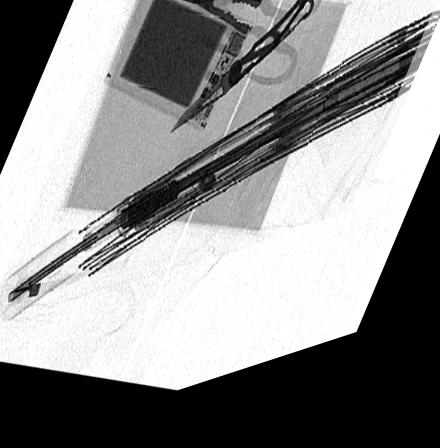Knife: (165, 7, 315, 147)
Powerbank: (103, 0, 252, 146)
Scissors: (163, 0, 323, 102)
